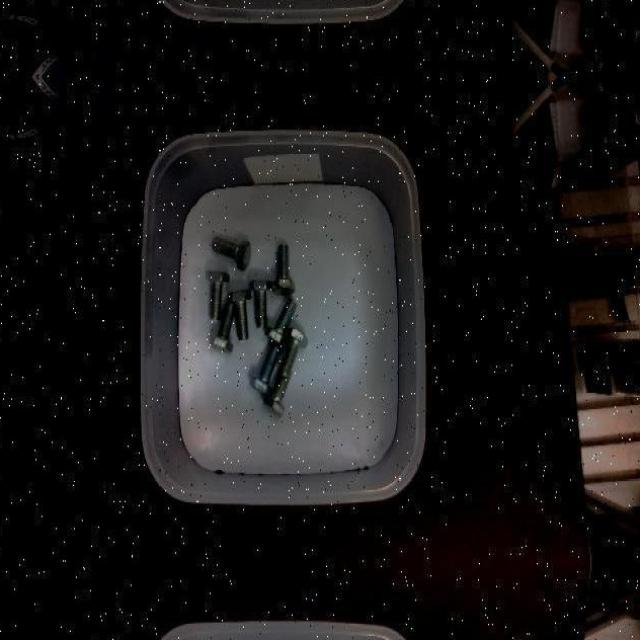screw: (265, 298, 298, 348), (250, 344, 281, 397), (279, 327, 308, 378), (212, 236, 252, 270), (271, 244, 296, 297), (210, 301, 235, 353), (205, 270, 230, 320), (228, 291, 251, 339), (250, 280, 273, 326)
